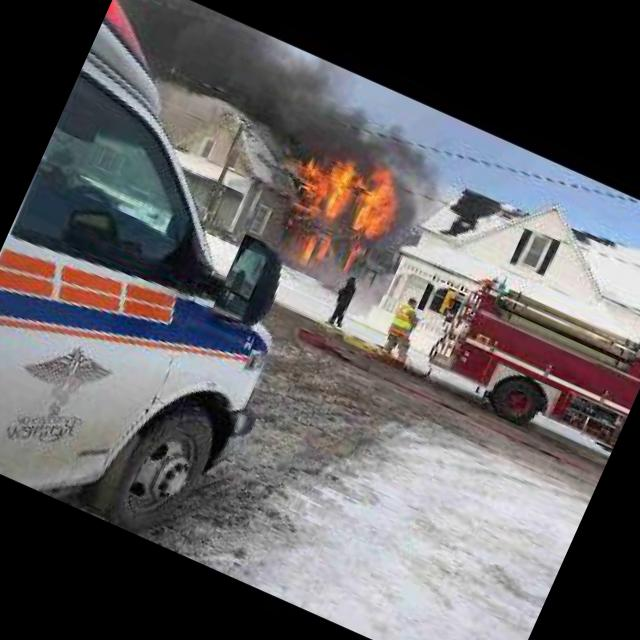fire: (267, 134, 415, 292)
smoke: (116, 0, 359, 153), (329, 92, 469, 188), (376, 173, 435, 260)
